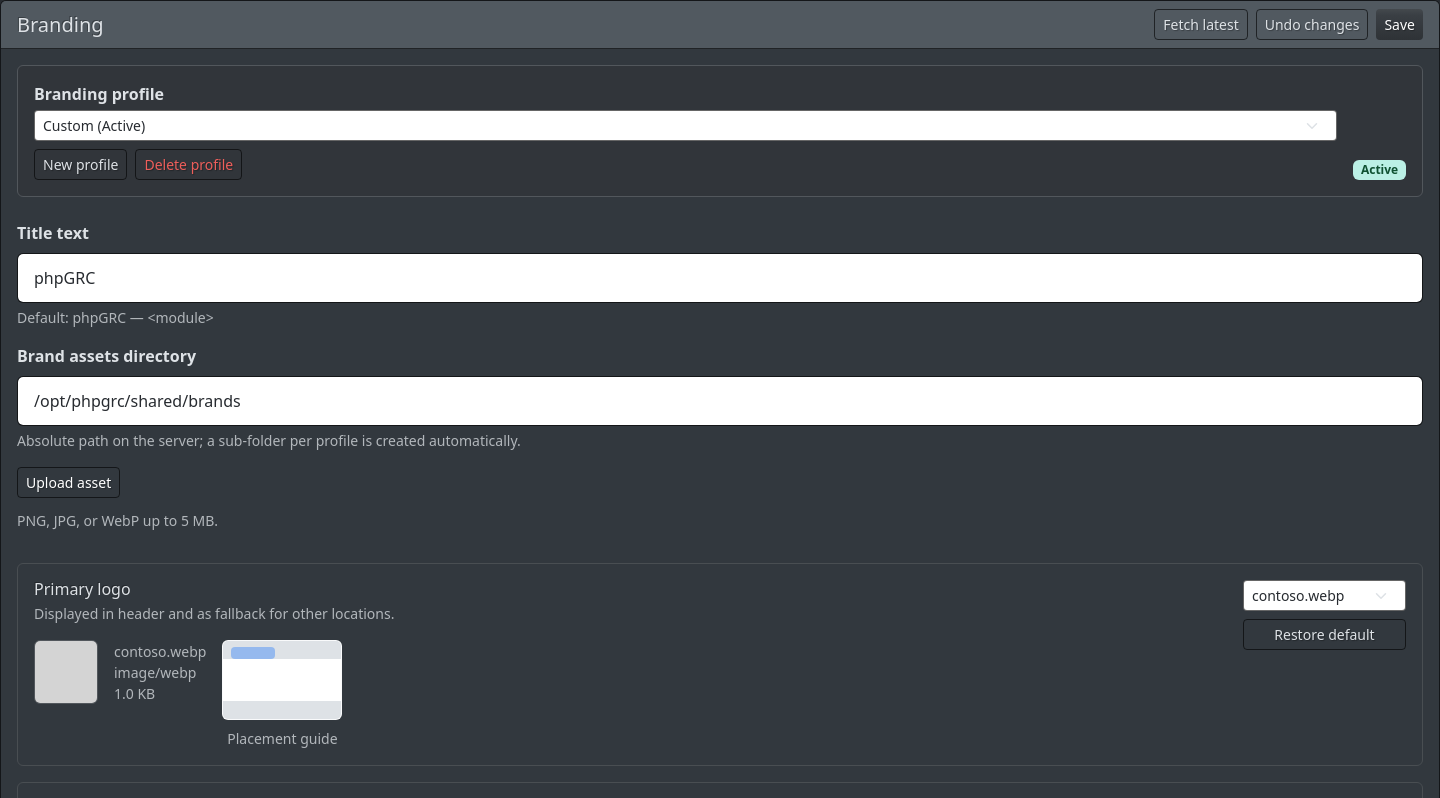
Test: BrandingCard › creates a new branding profile using modal
The image size is (1440, 798).
Click the button "New profile". click: (81, 164)
box: [34, 149, 127, 180]
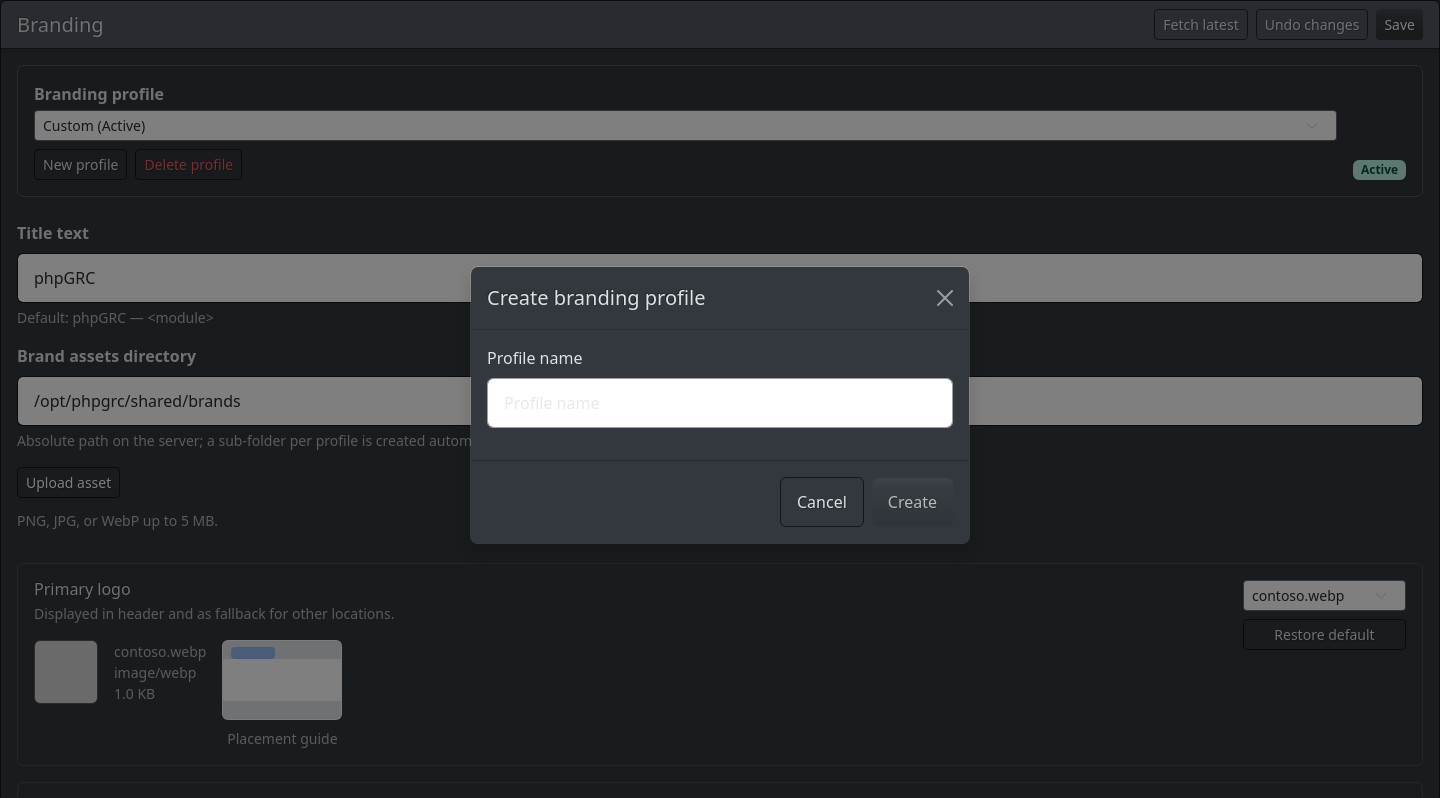
Check: the button "Create" is disabled, box [872, 478, 953, 526]
Type "Marketing" into the field labelled "Profile name". click: (720, 403)
box: [487, 378, 953, 428]
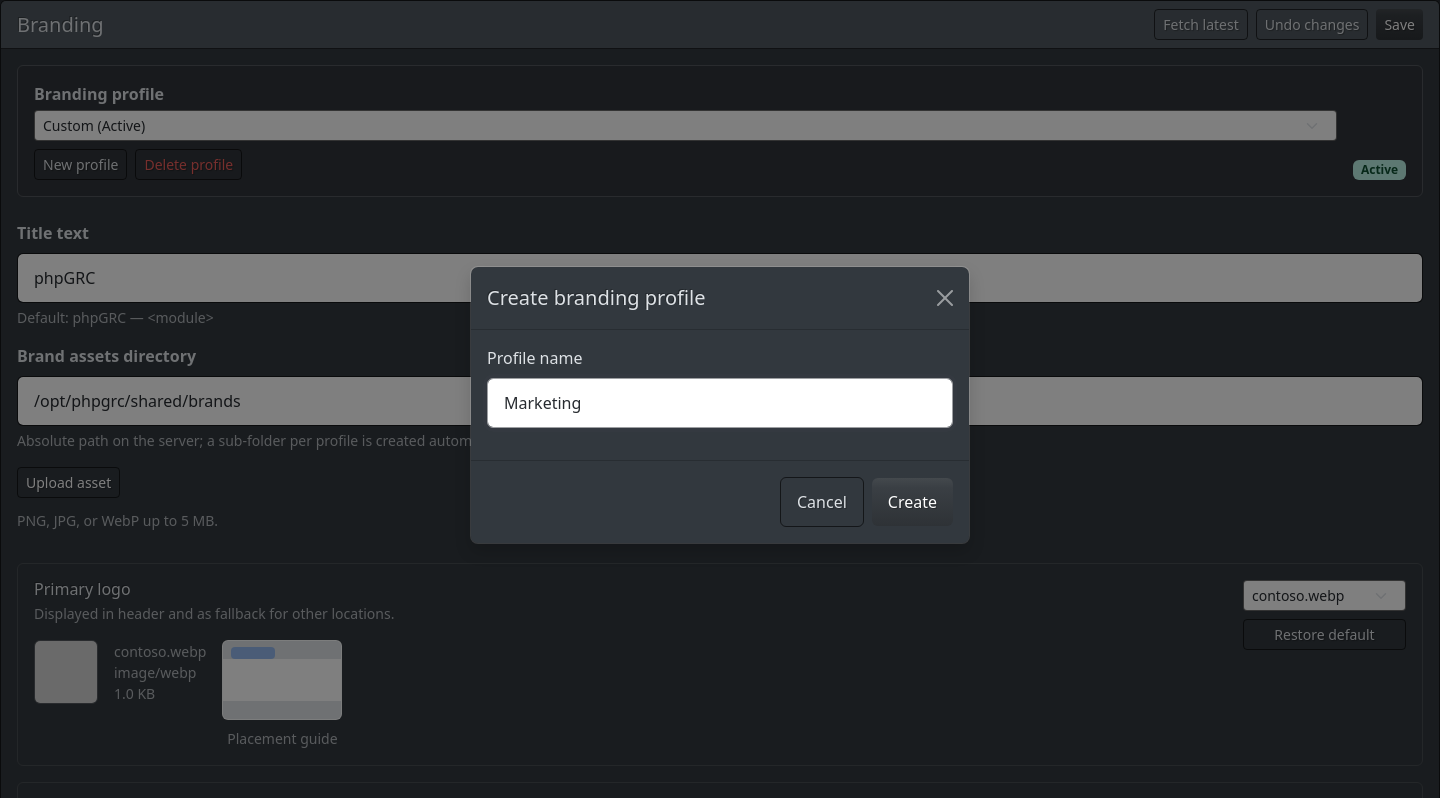
Check: the button "Create" is enabled
Click the button "Create". click: (912, 502)
box: [872, 478, 953, 526]
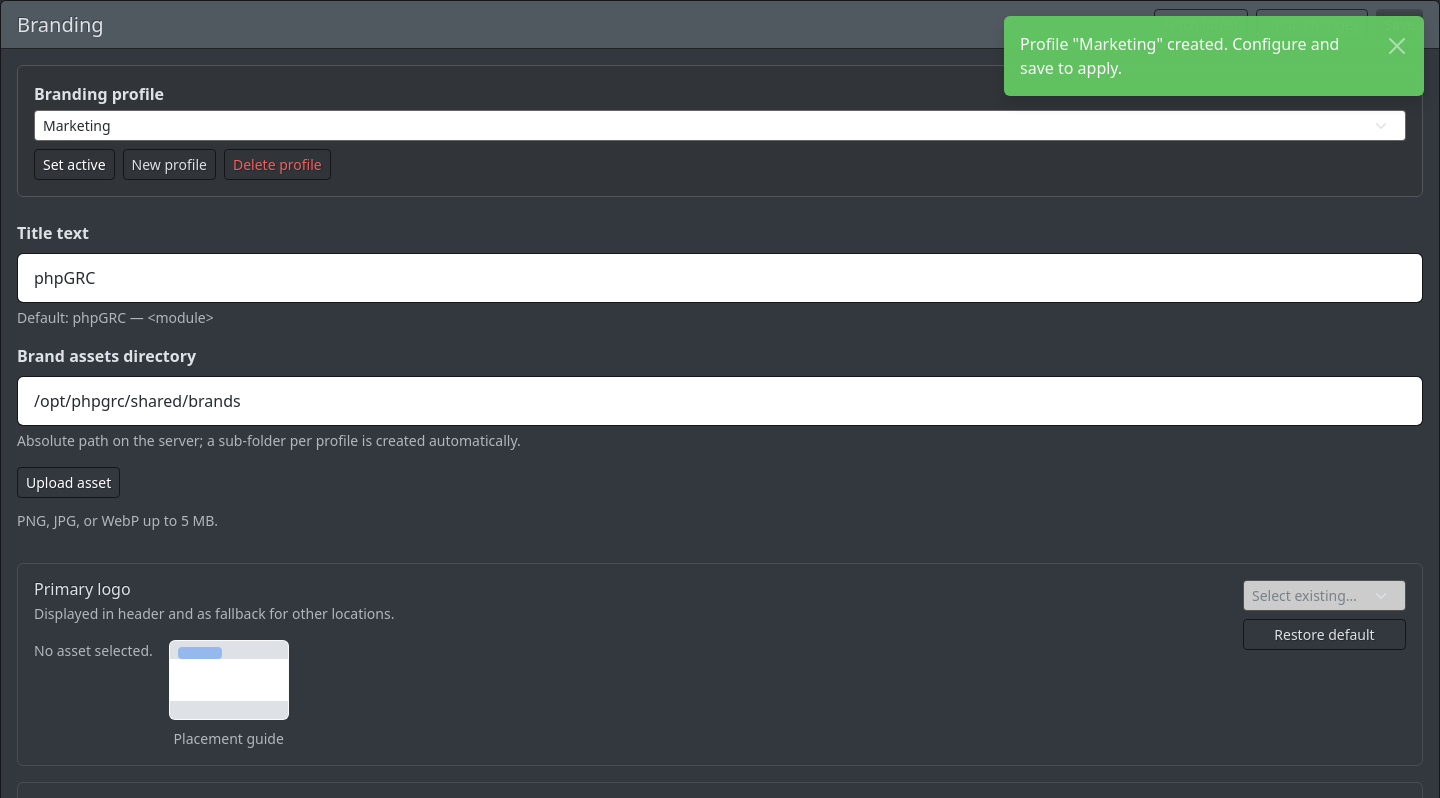
Check: the text "Profile \"Marketing\" created. Configure and save to apply." is shown, box [1020, 32, 1367, 80]
Check: the label labelled "Profile name" is gone
